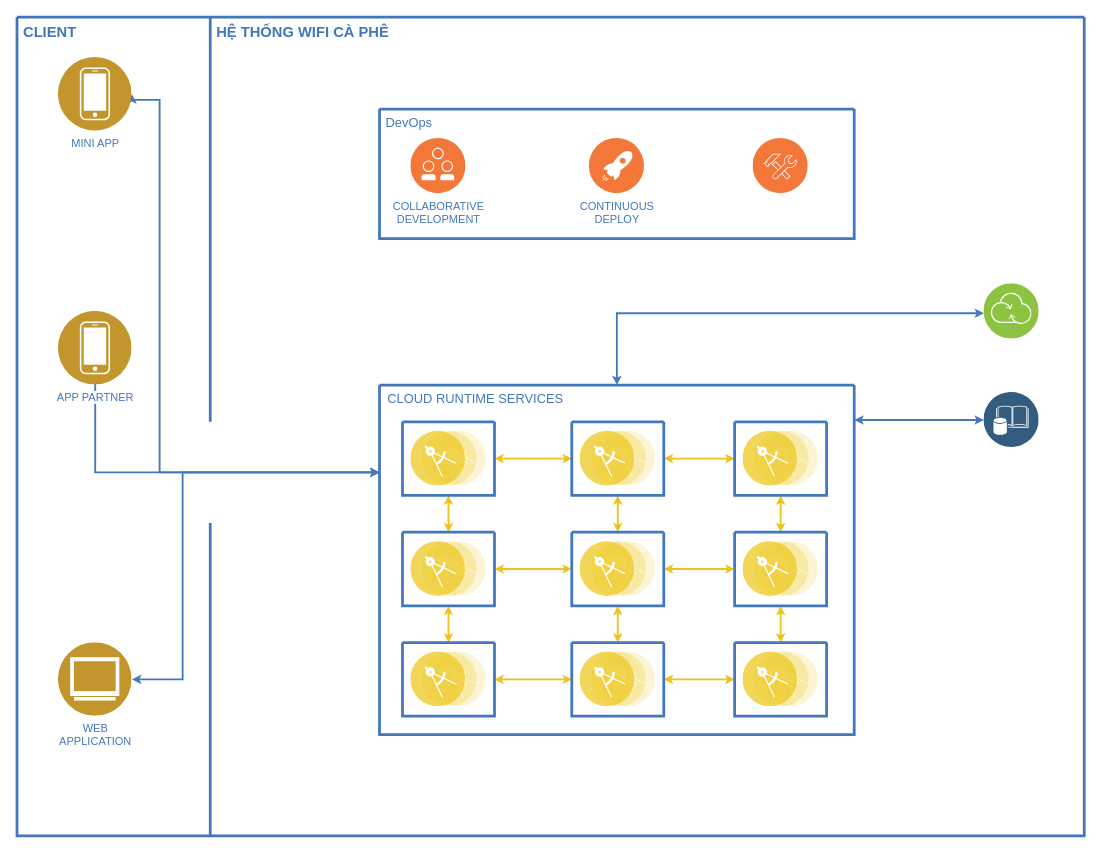
The diagram is 1101 pixels wide and 853 high, and some of its shapes have lost their labels. The centre of each missing label's shape, as x and y in pixels:
CONFIGURATION MANAGEMENT: pixel 780 165
MONGO DB: pixel 1011 311
PAYMENT SERIVCE: pixel 1011 419
